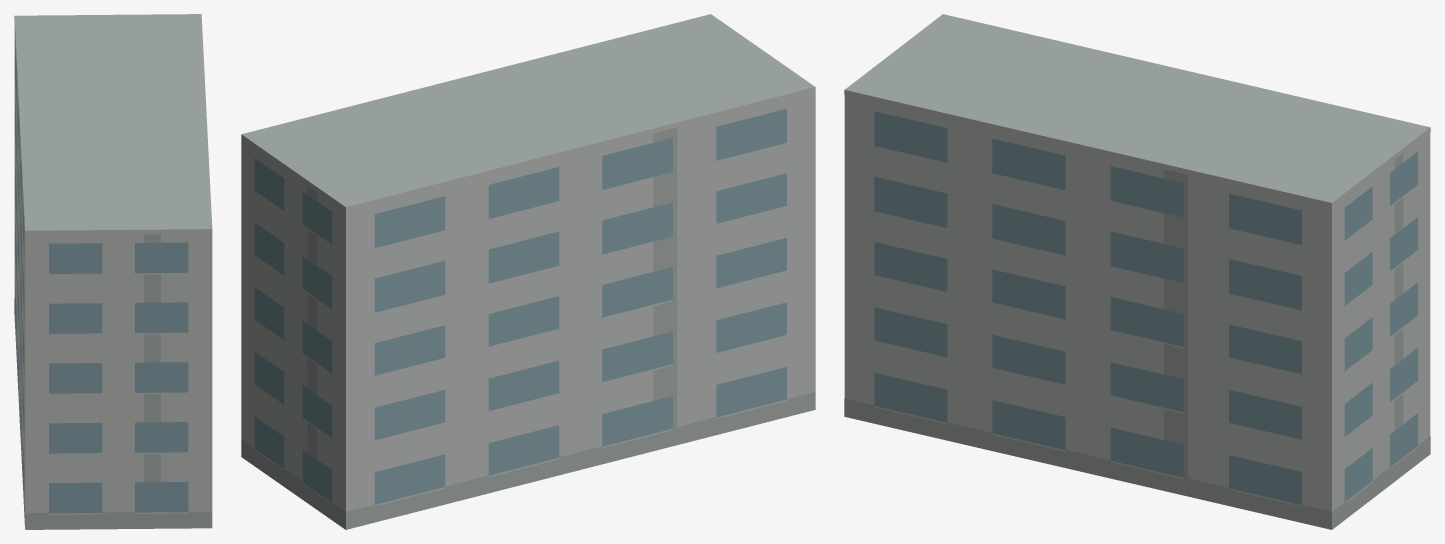
The model's file is residential-126af8fb-ea47-4b1b-8c76-55e28739096d.glb.
3 renders of one model, left to right at view 1: azimuth 30°, elevation 25°; view 2: azimuth 150°, elevation 25°; view 3: azimuth 270°, elevation 25°, orthographic. The views are drawn at different scales.
Visible parts, largest first — view 1: residential-126af8fb-ea47-4b1b-8c76-55e28739096d.tmp; view 2: residential-126af8fb-ea47-4b1b-8c76-55e28739096d.tmp; view 3: residential-126af8fb-ea47-4b1b-8c76-55e28739096d.tmp.
Part boxes in pixels (x1=…): residential-126af8fb-ea47-4b1b-8c76-55e28739096d.tmp: x1=14, y1=14, x2=212, y2=529; residential-126af8fb-ea47-4b1b-8c76-55e28739096d.tmp: x1=241, y1=14, x2=815, y2=529; residential-126af8fb-ea47-4b1b-8c76-55e28739096d.tmp: x1=844, y1=14, x2=1430, y2=529.
Size of the model in its own units: 18.91 by 15.25 by 24.78.
